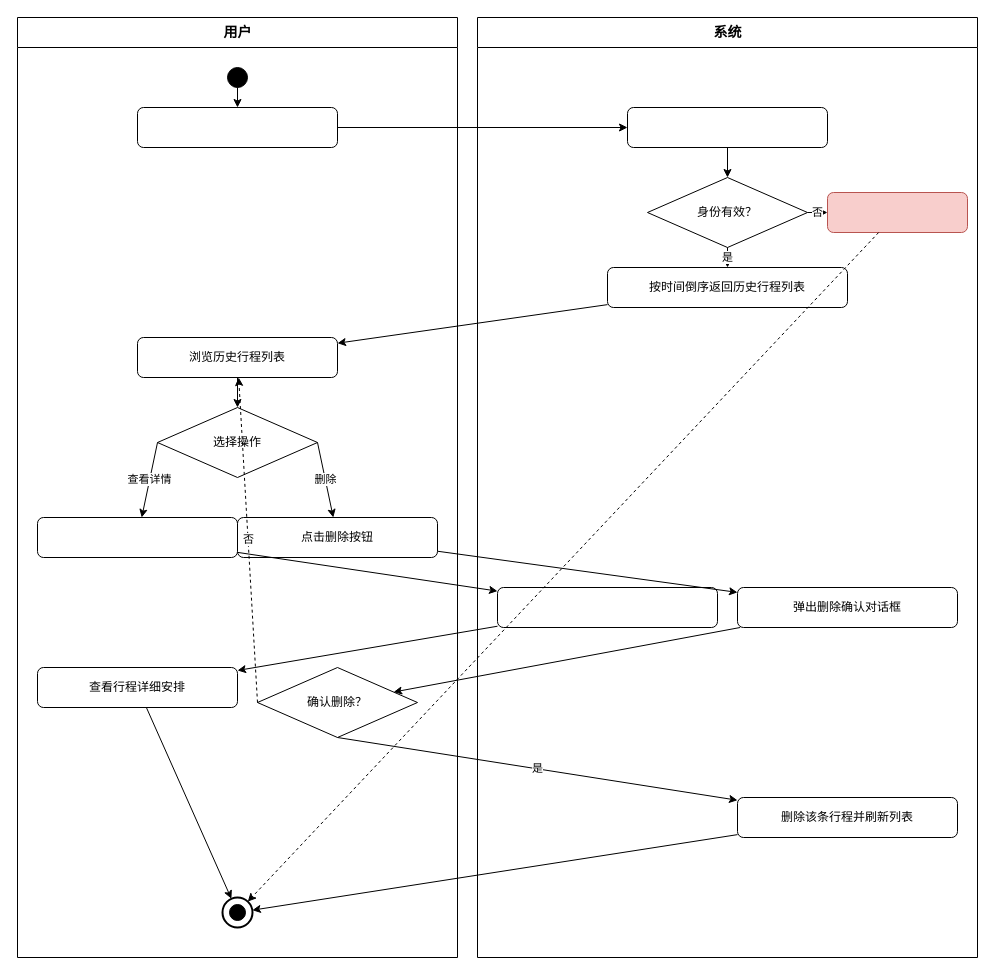
Image size: 995x975. Some labels were removed from this diagram. Each missing label, with the centre of its shape:
展示该条行程的详细安排: the point at 607,607
提示重新登录: the point at 897,212
点击查看某条行程: the point at 137,537
识别用户身份: the point at 727,127
进入历史行程页面: the point at 237,127
